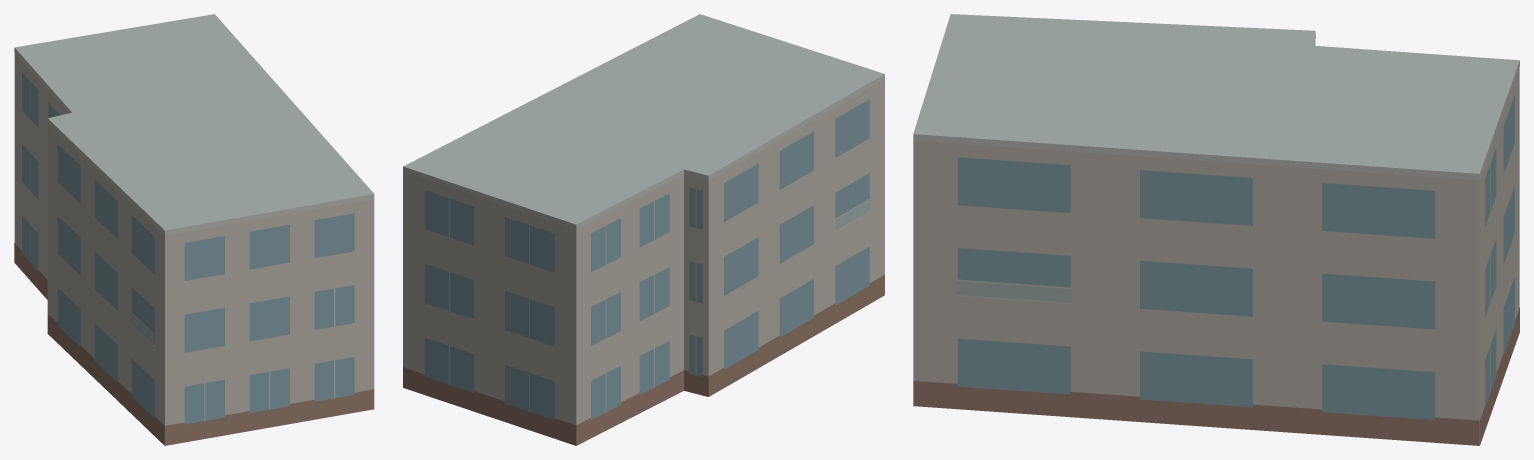
File: survey-upis-32521745.glb
The picture shows the model from 3 angles, left to right: view 1: azimuth 30°, elevation 25°; view 2: azimuth 150°, elevation 25°; view 3: azimuth 270°, elevation 25°; orthographic projection. The views are drawn at different scales.
Parts seen in each view (by area): view 1: survey-upis-32521745.tmp; view 2: survey-upis-32521745.tmp; view 3: survey-upis-32521745.tmp.
Boxes of the visible parts, <box> form: survey-upis-32521745.tmp: <box>14,14,374,445</box>; survey-upis-32521745.tmp: <box>403,14,884,445</box>; survey-upis-32521745.tmp: <box>913,14,1519,445</box>.
Bounding box in the file's own units: 13.24 × 10.5 × 21.23.
